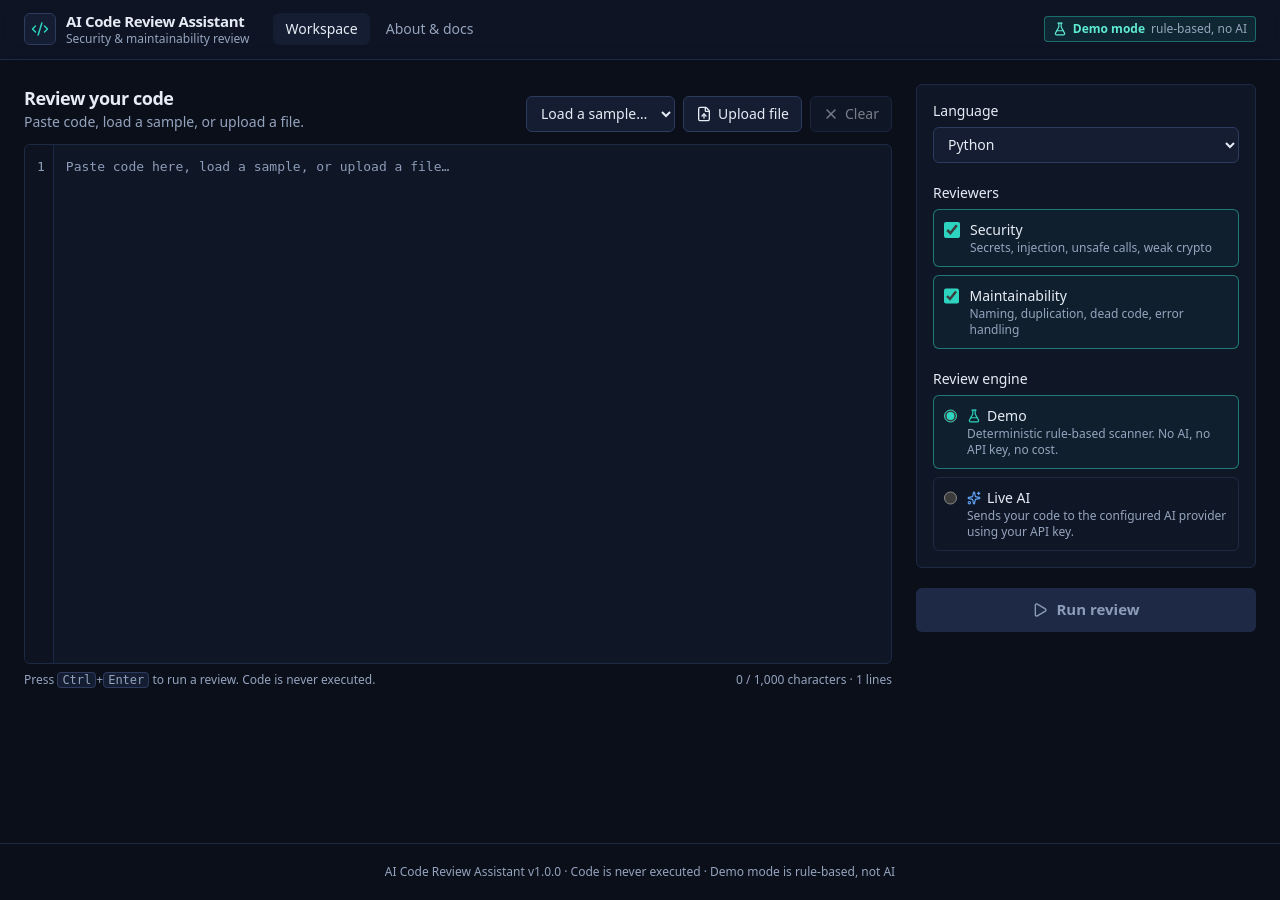
Scenario: workspace › requires at least one reviewer
Type "x" into the text box named "Code to review" at (472,404), box x1=54 y1=145 x2=891 y2=663
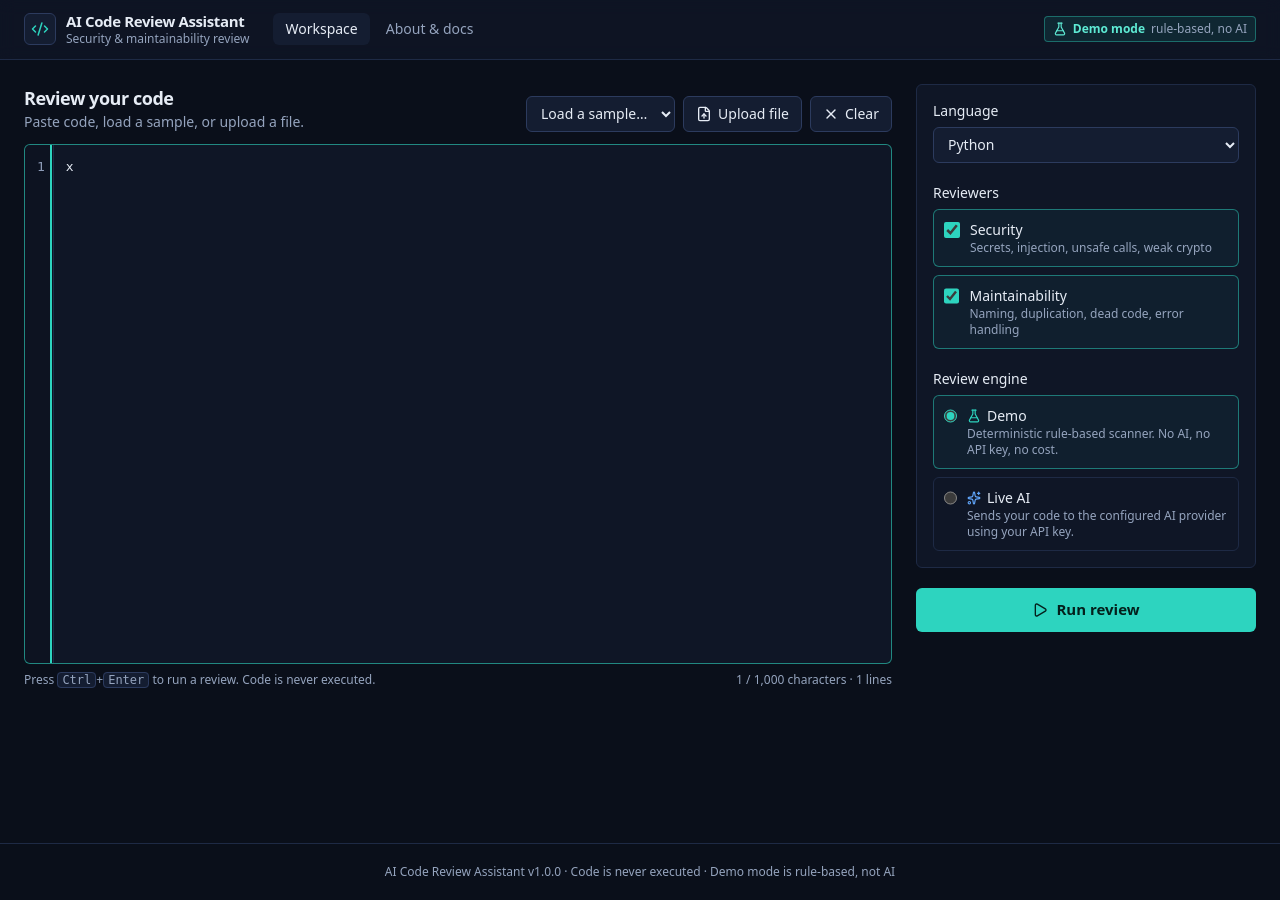
Click the checkbox labelled "Security Secrets, injection, unsafe calls, weak crypto" at (952,230), box x1=944 y1=222 x2=960 y2=238
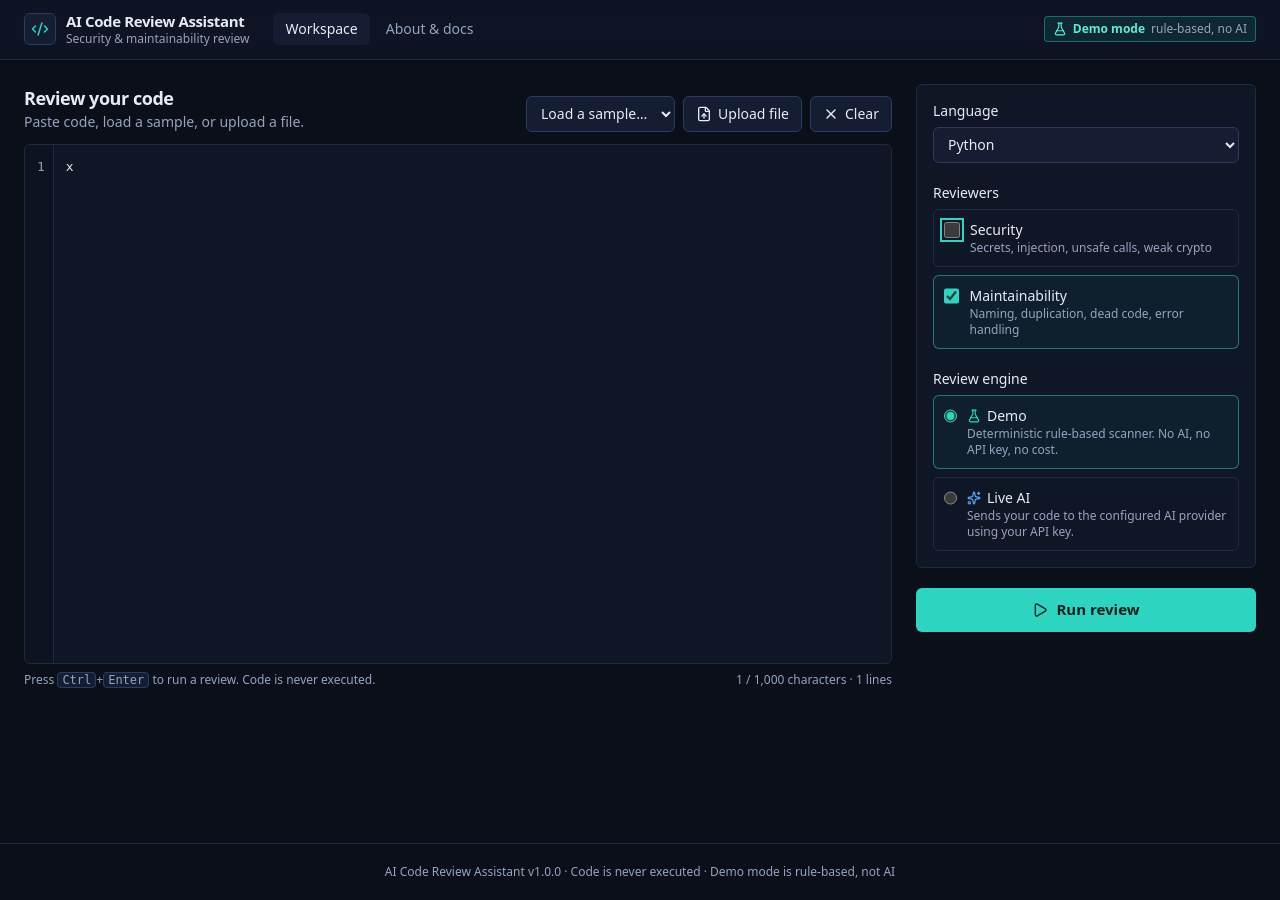
Click the checkbox labelled "Maintainability" at (952,296), box x1=944 y1=288 x2=960 y2=304
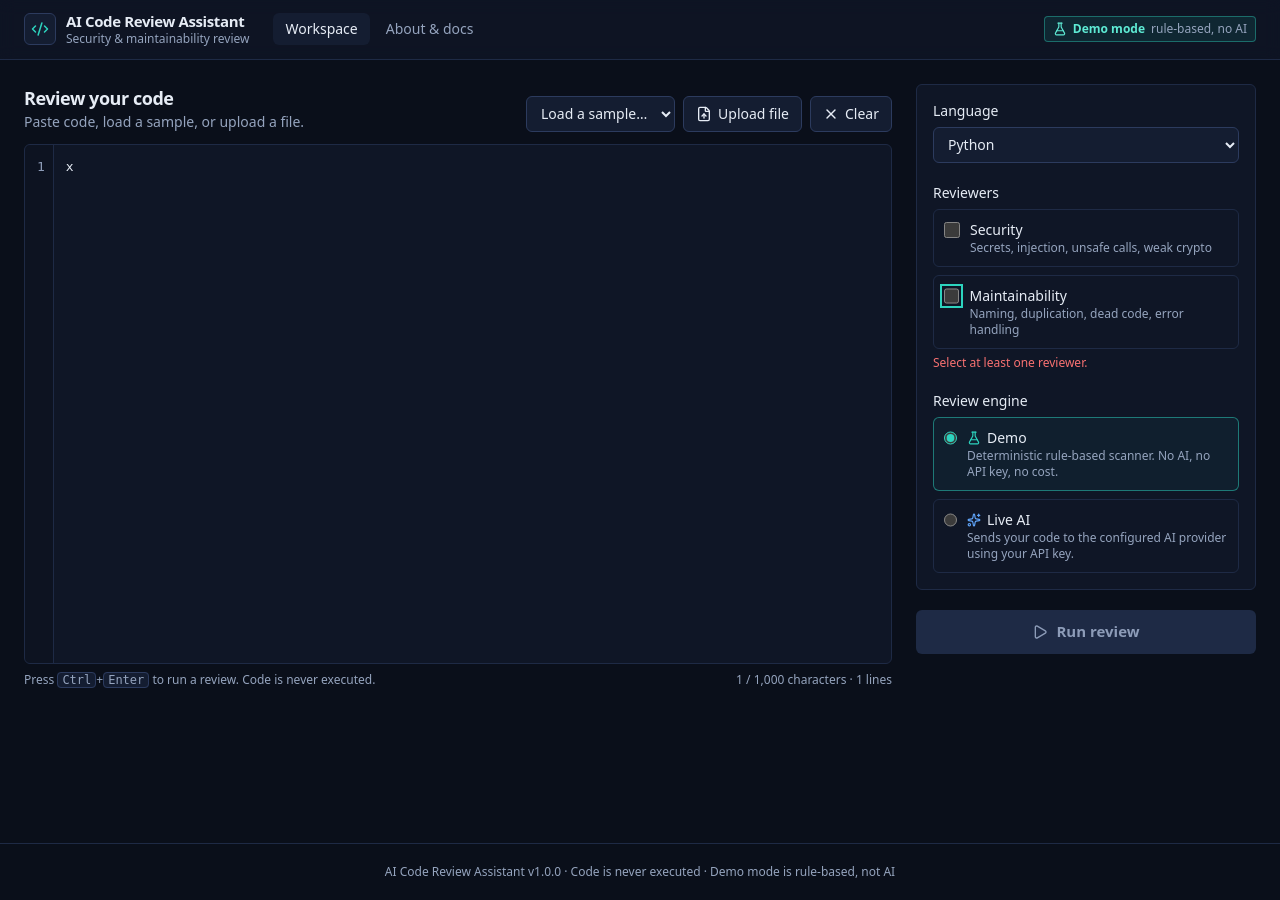
expect the text "Select at least one reviewer." is shown: met, box x1=933 y1=354 x2=1087 y2=371
expect the button "Run review" is disabled: met, box x1=916 y1=610 x2=1256 y2=654
